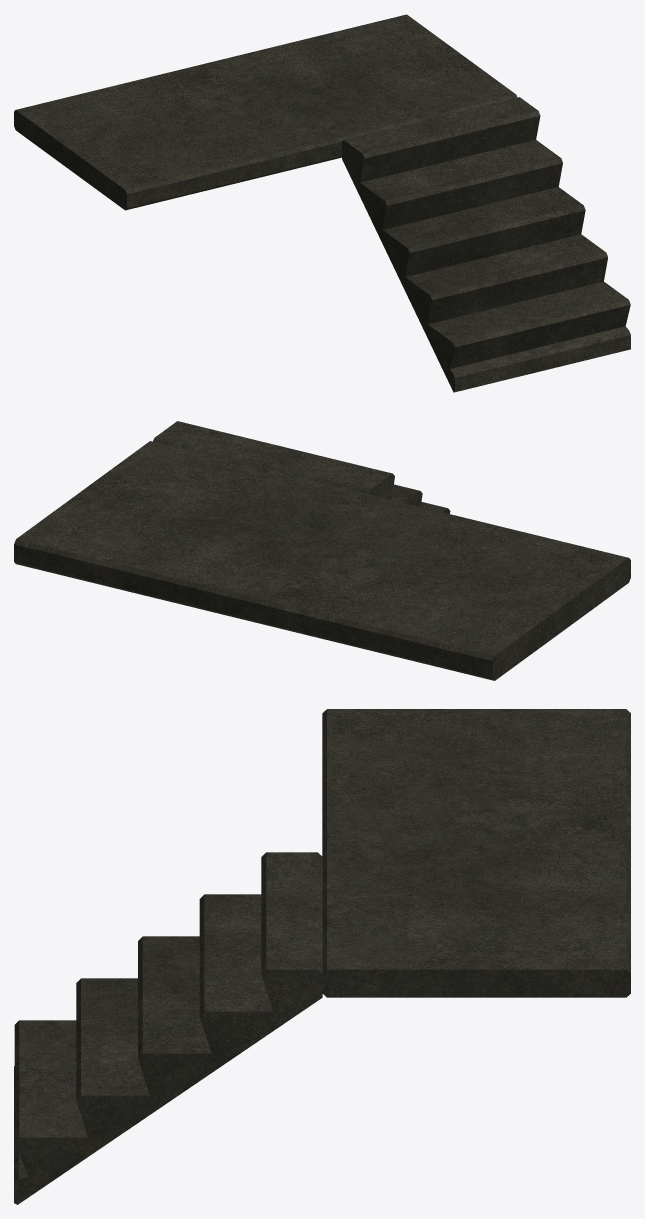
The model's file is stairs_1.glb.
3 views of the same model, one above another, from view 1: azimuth 30°, elevation 25°; view 2: azimuth 150°, elevation 25°; view 3: azimuth 270°, elevation 25° (orthographic). The views are drawn at different scales.
Visible parts, largest first — view 1: stairs_1; view 2: stairs_1; view 3: stairs_1.
Part boxes in pixels (<box>): stairs_1: <box>14,14,630,392</box>; stairs_1: <box>14,421,630,680</box>; stairs_1: <box>14,709,630,1204</box>.
Size of the model in its own units: 4 by 1.68 by 4.
Materials: 1 (1 with a texture image).
